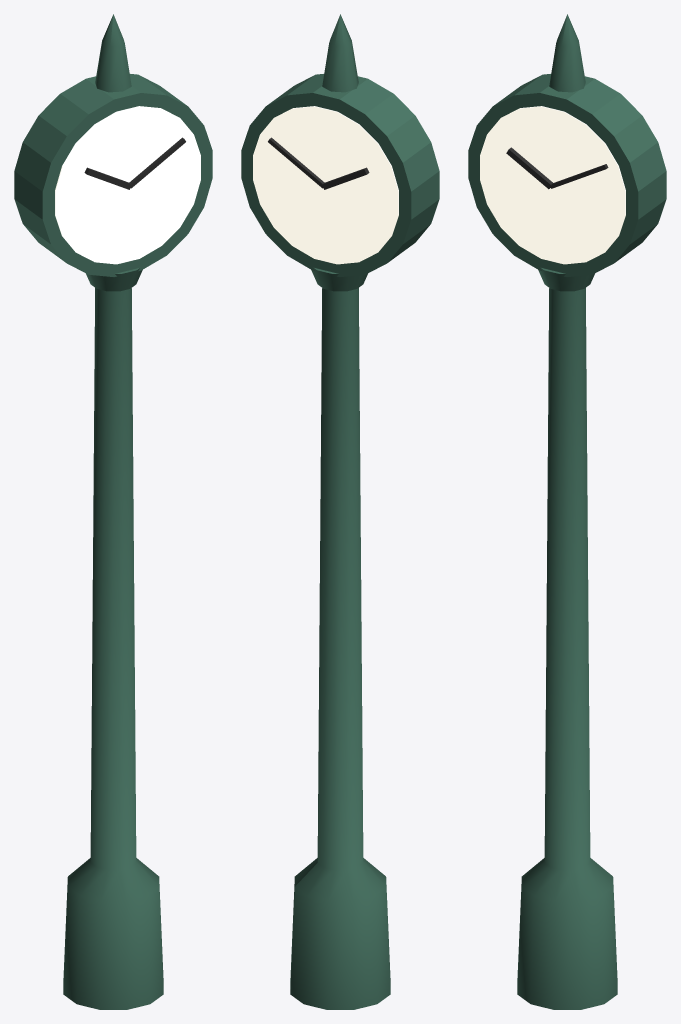
The model's file is street-clock.glb.
3 views of the same model, side by side, from view 1: azimuth 30°, elevation 25°; view 2: azimuth 150°, elevation 25°; view 3: azimuth 330°, elevation 25° (orthographic).
Visible parts, largest first — view 1: street-clock; view 2: street-clock; view 3: street-clock.
Part boxes in pixels (x1=…): street-clock: x1=14, y1=14, x2=212, y2=1009; street-clock: x1=241, y1=14, x2=439, y2=1009; street-clock: x1=468, y1=14, x2=666, y2=1009.
Size of the model in its own units: 0.8298 by 4.55 by 0.4249.
